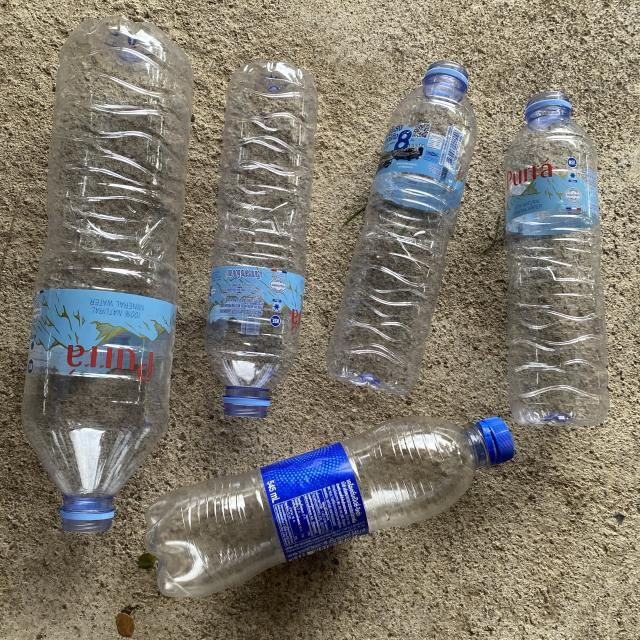plastik: (21, 16, 192, 532), (145, 416, 514, 598), (326, 61, 476, 395), (205, 60, 318, 418), (505, 91, 609, 426)
